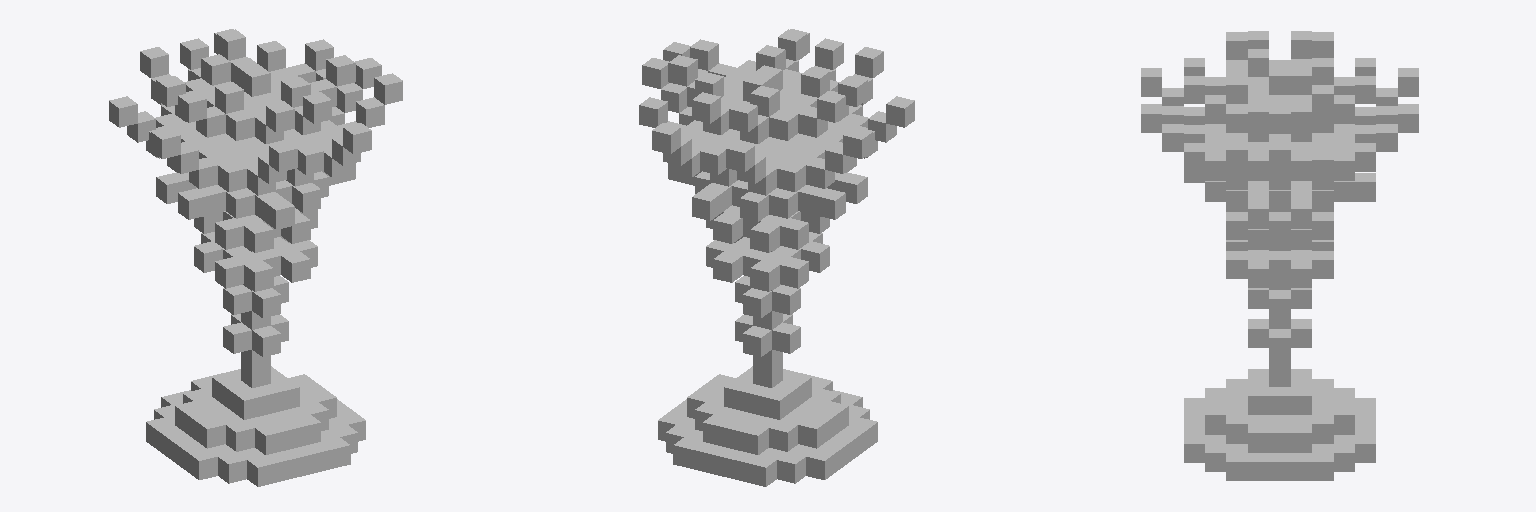
File: Herbácea - Crotalária jovem.obj
3 views of the same model, side by side, from view 1: azimuth 30°, elevation 25°; view 2: azimuth 150°, elevation 25°; view 3: azimuth 270°, elevation 25° (orthographic).
Visible parts, largest first — view 1: object 1; view 2: object 1; view 3: object 1.
Part boxes in pixels (left/top/right/bottom): object 1: left=109, top=29, right=402, bottom=486; object 1: left=639, top=29, right=914, bottom=486; object 1: left=1141, top=31, right=1418, bottom=480.
Size of the model in its own units: 1.3 by 1.9 by 1.3.